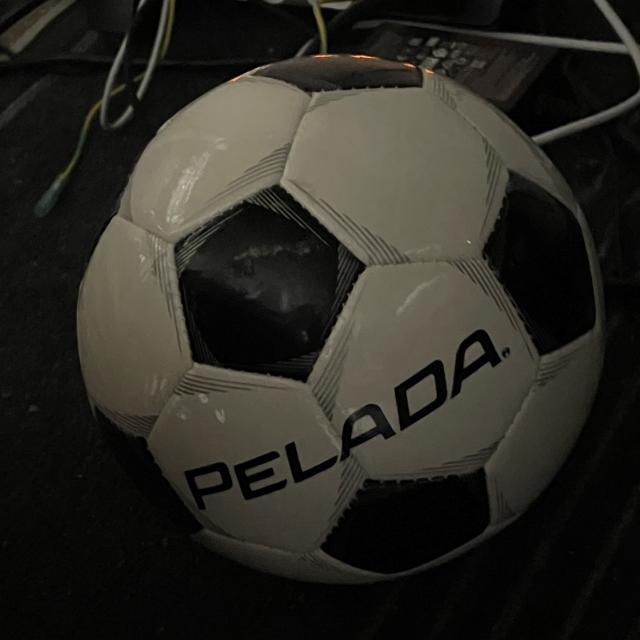ball: (74, 54, 603, 588)
